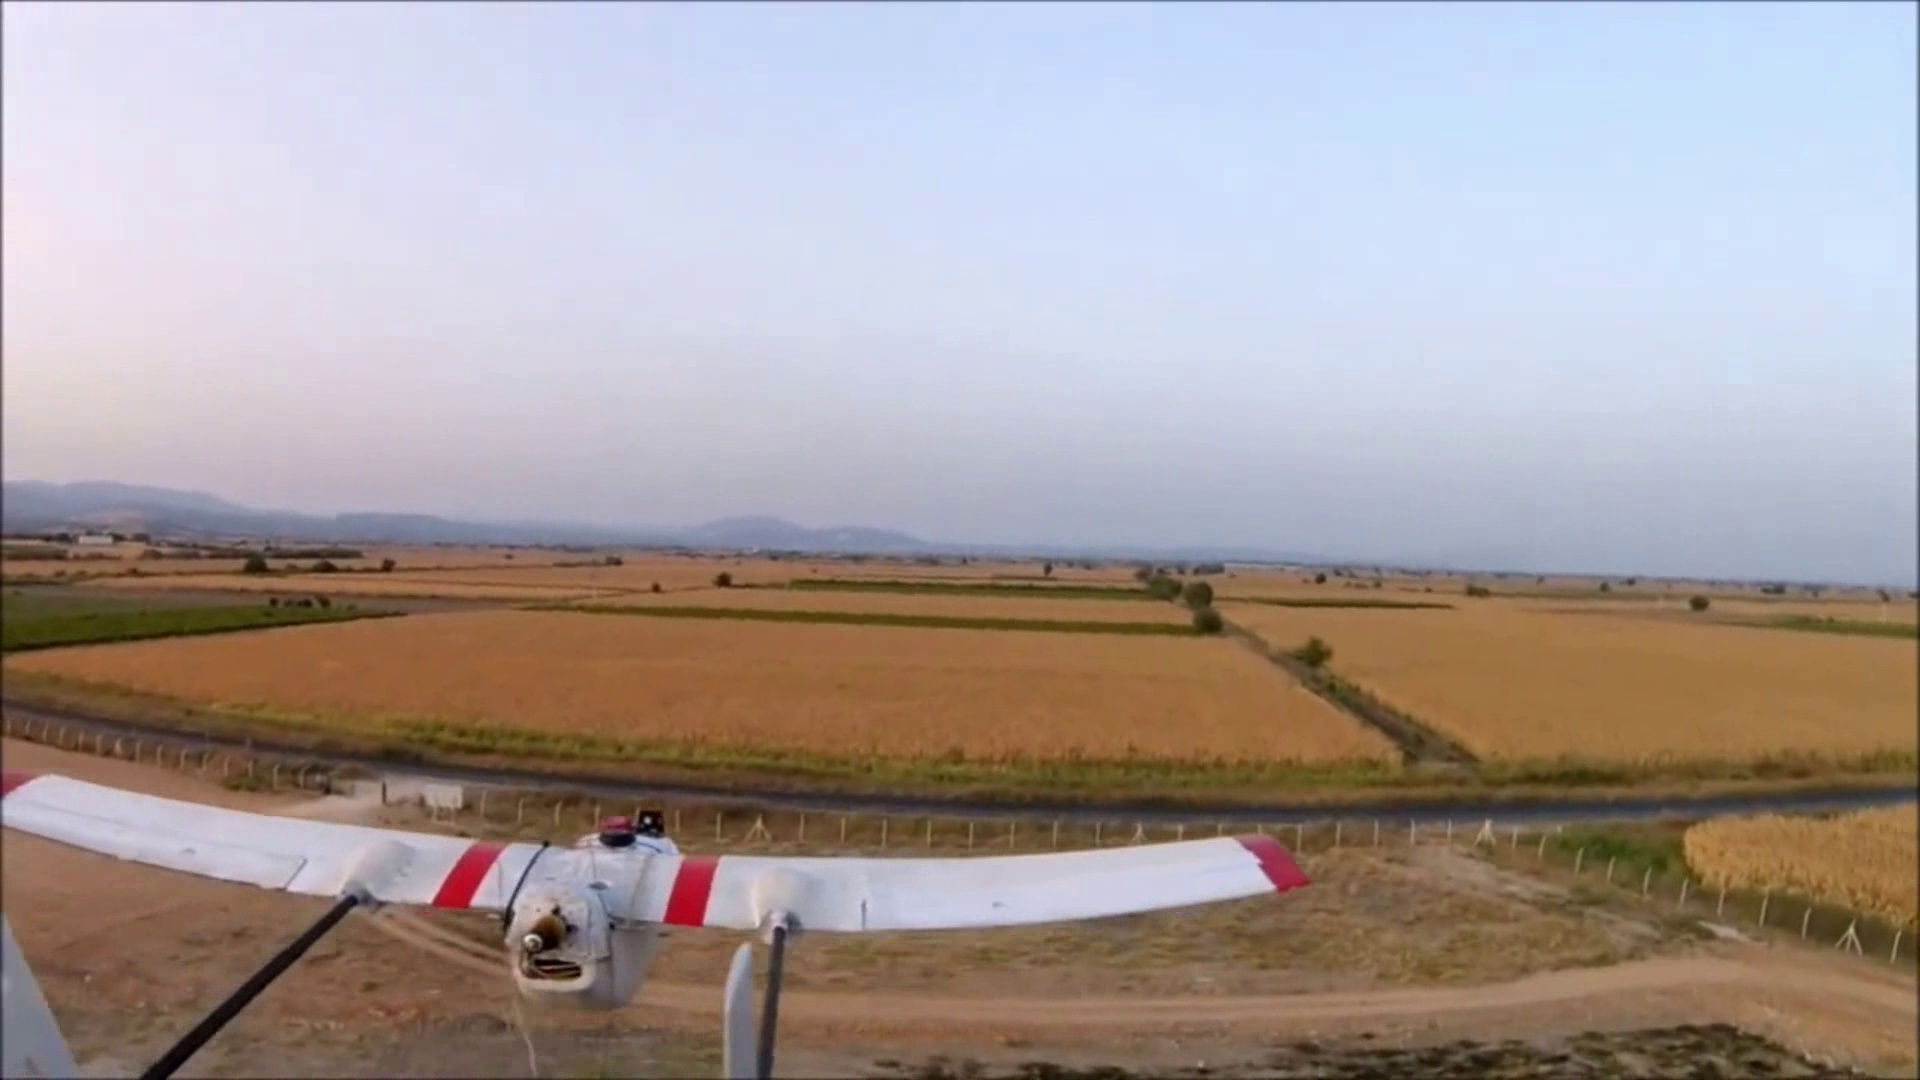airplane: (7, 725, 1309, 1025)
